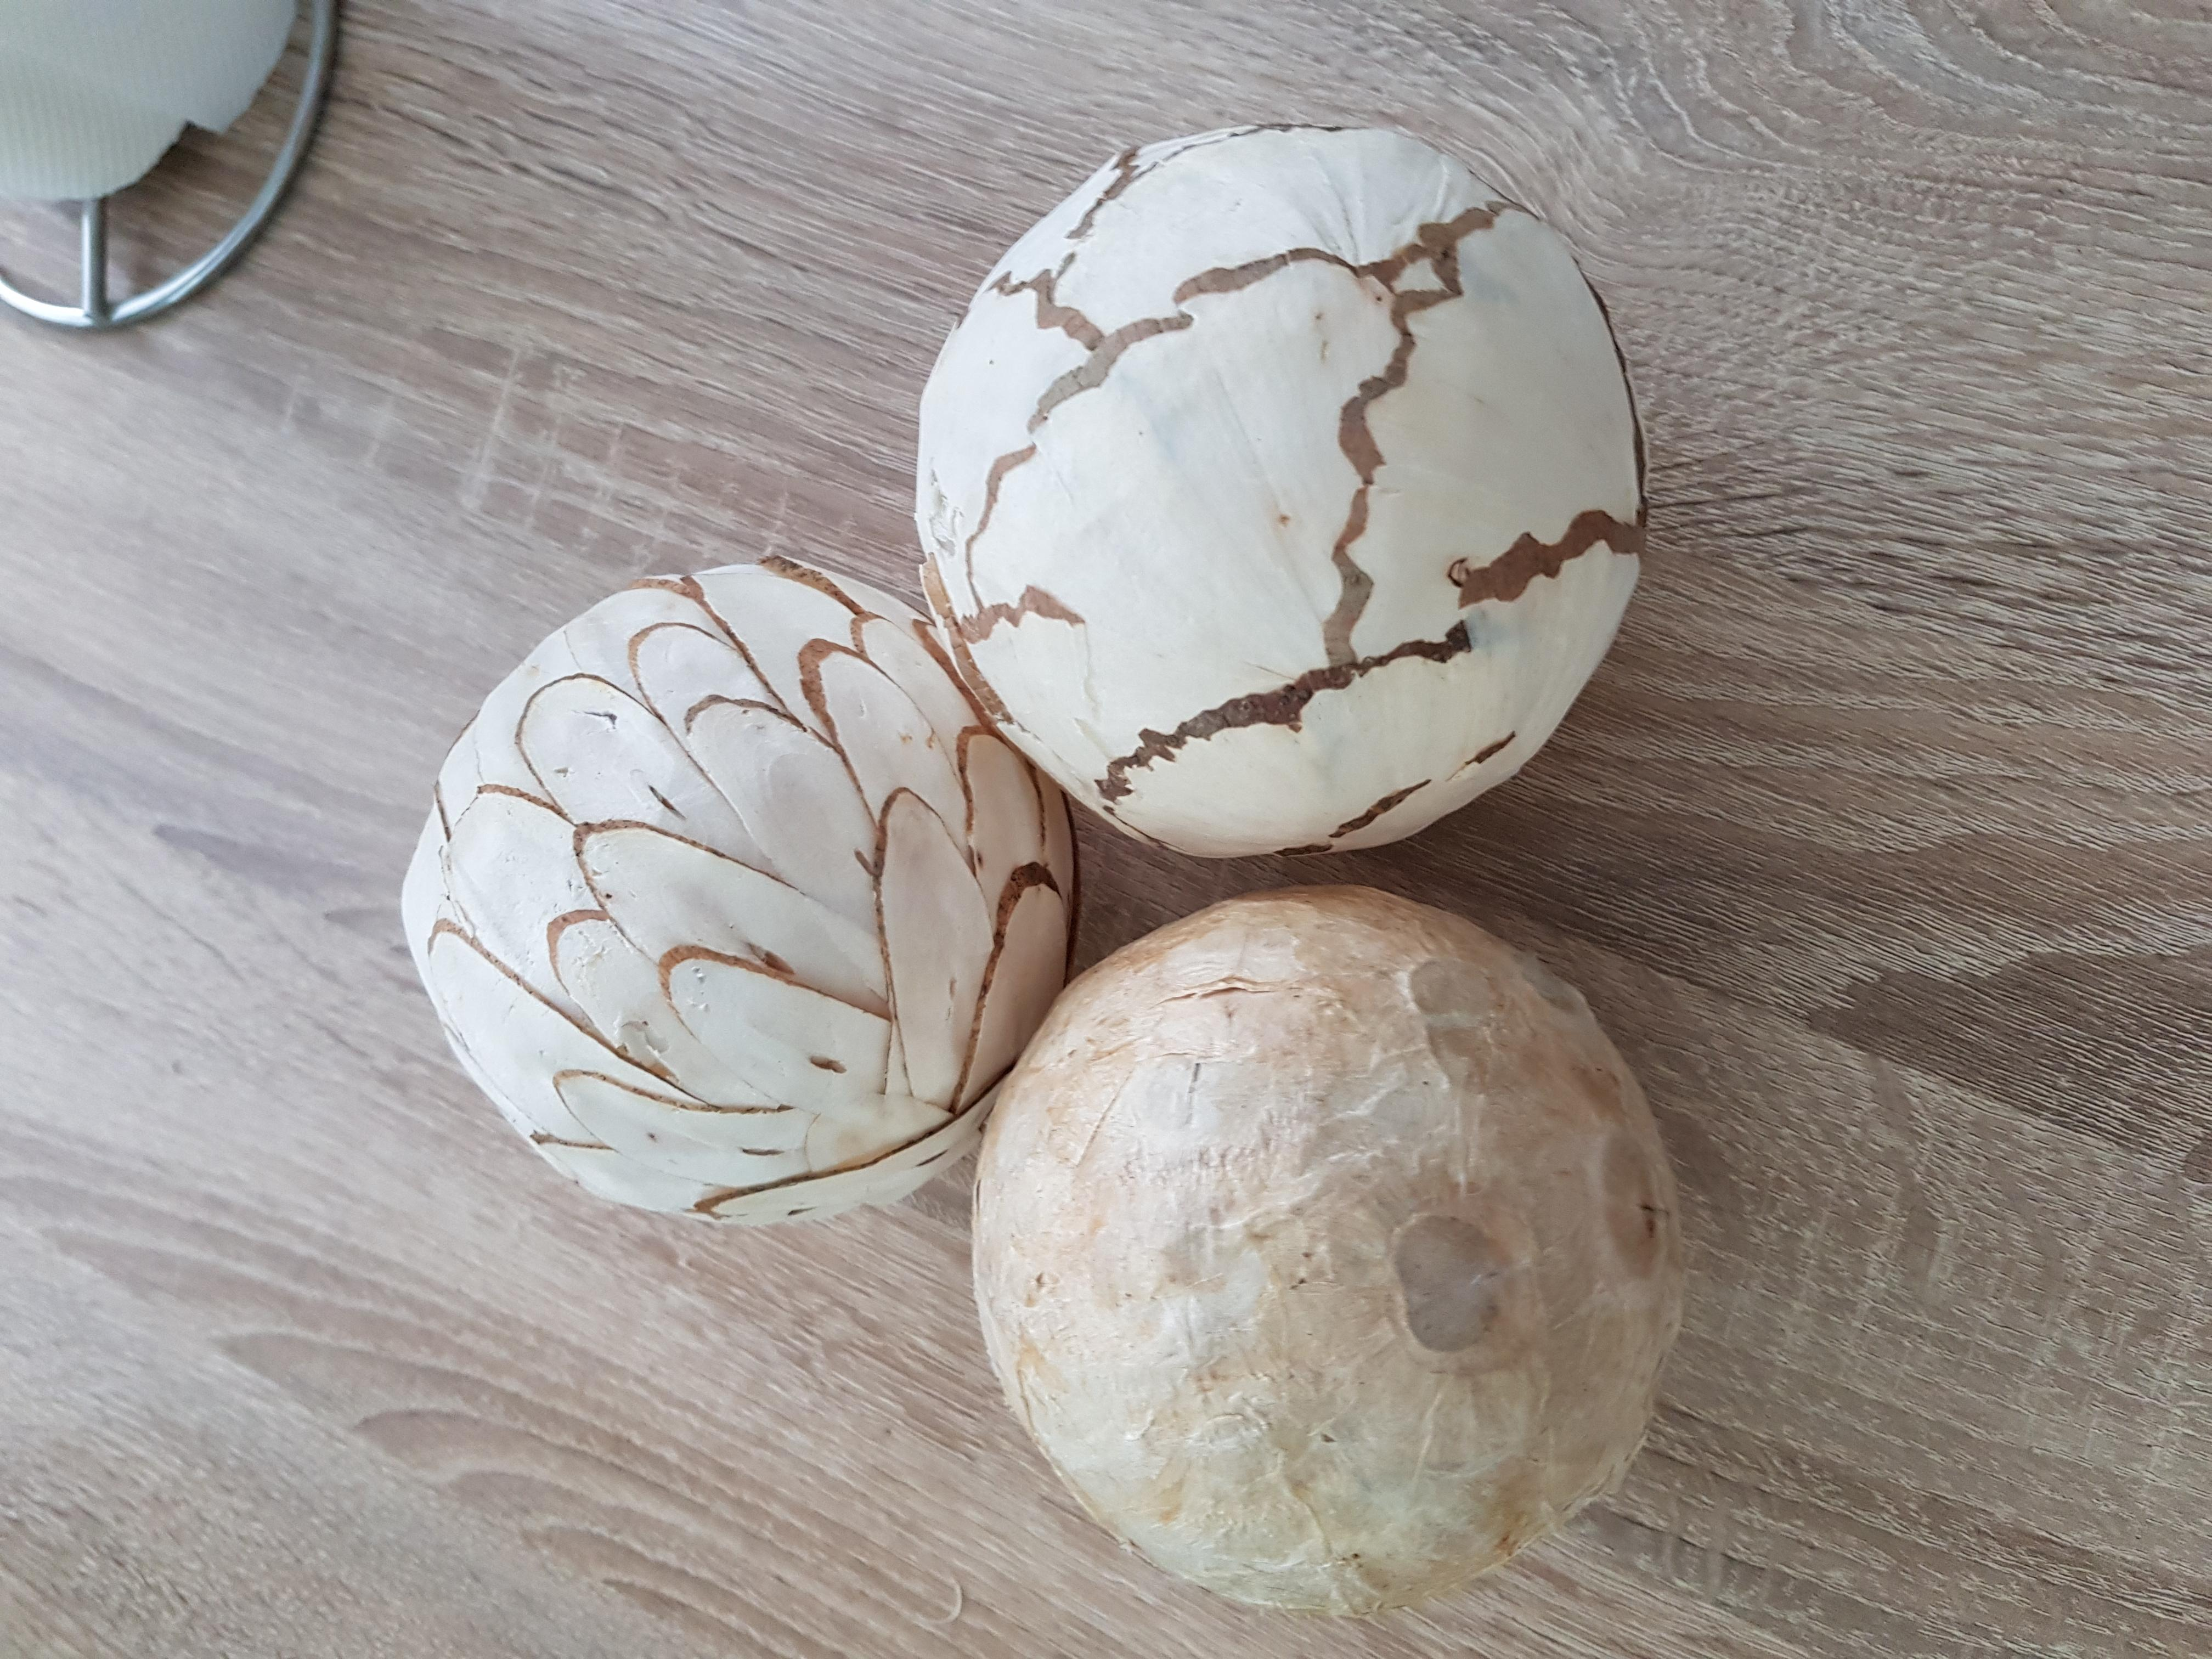Sphere: (906, 113, 1644, 852), (961, 887, 1676, 1598), (402, 556, 1080, 1223)
